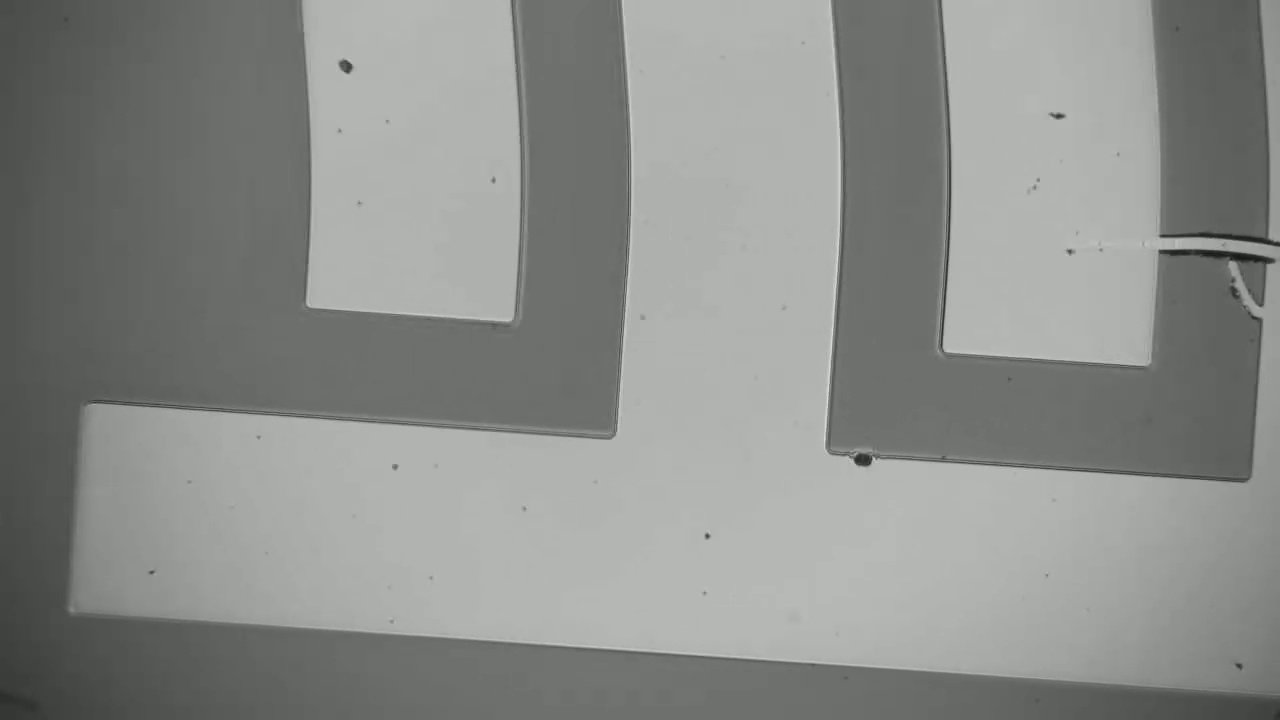Short_circuit: (1127, 215, 1280, 285)
